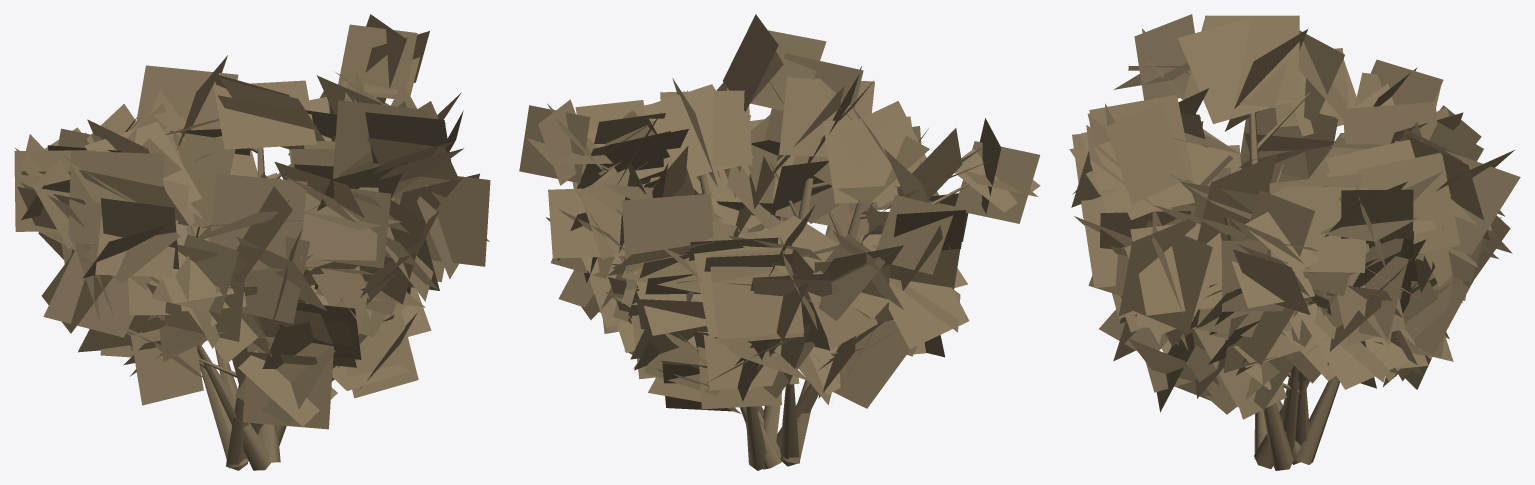
File: bush-3-lod0.glb
3 renders of one model, left to right at view 1: azimuth 30°, elevation 25°; view 2: azimuth 150°, elevation 25°; view 3: azimuth 270°, elevation 25°, orthographic. The views are drawn at different scales.
Parts seen in each view (by area): view 1: bush-3-lod0-bush-foliage, bush-3-lod0-oak-bark; view 2: bush-3-lod0-bush-foliage, bush-3-lod0-oak-bark; view 3: bush-3-lod0-bush-foliage, bush-3-lod0-oak-bark.
Boxes of the visible parts, x1,y1,x2,y2 form: bush-3-lod0-bush-foliage: (14,14,490,429); bush-3-lod0-oak-bark: (138,97,376,470); bush-3-lod0-bush-foliage: (519,14,1040,413); bush-3-lod0-oak-bark: (600,80,984,470); bush-3-lod0-bush-foliage: (1069,14,1520,419); bush-3-lod0-oak-bark: (1178,67,1451,470).
Bounding box in the file's own units: 4.61 × 3.86 × 4.07.
